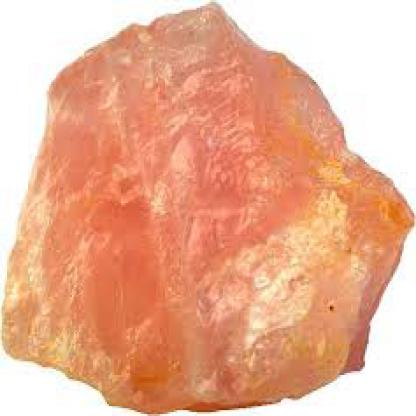Metamorphic_Marble: (2, 10, 414, 414)
